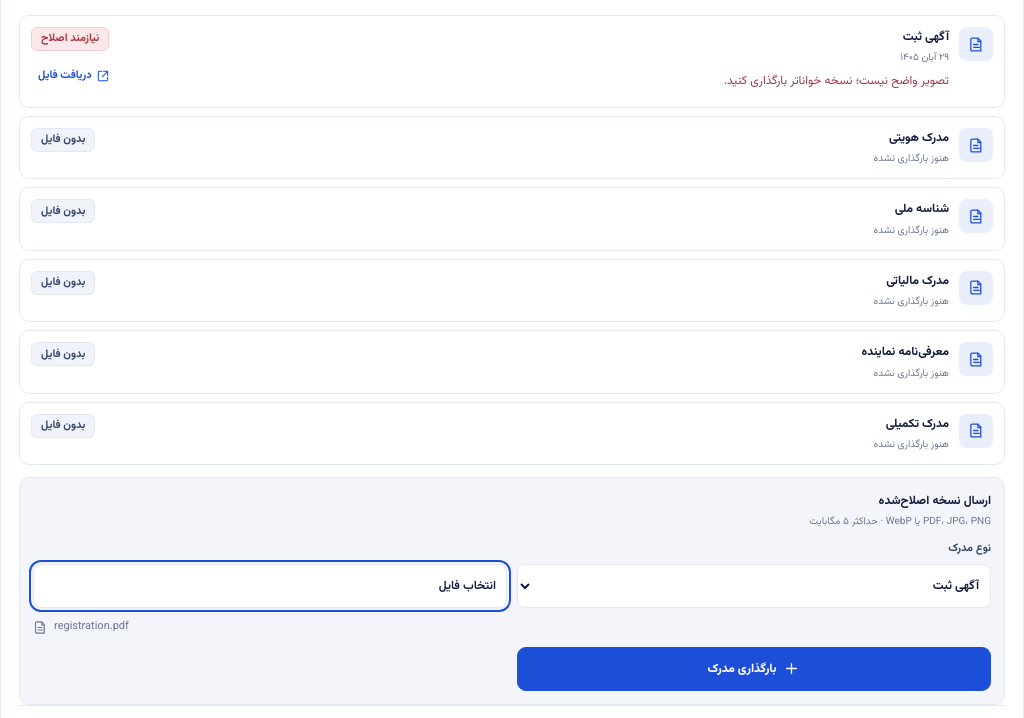
Test: BusinessVerificationPanel › shows review feedback and uploads a private document without changing the existing flow
Earlier steps of the test are not shown.
(page scrolled)
Expected: the text "تصویر واضح نیست؛ نسخه خواناتر بارگذاری کنید." is shown, [724, 72, 949, 90]
Expected: the text "ارسال نسخه اصلاح‌شده" is shown, [879, 492, 991, 510]
Click the button "بارگذاری مدرک": (754, 669) [517, 647, 991, 691]
(page scrolled)
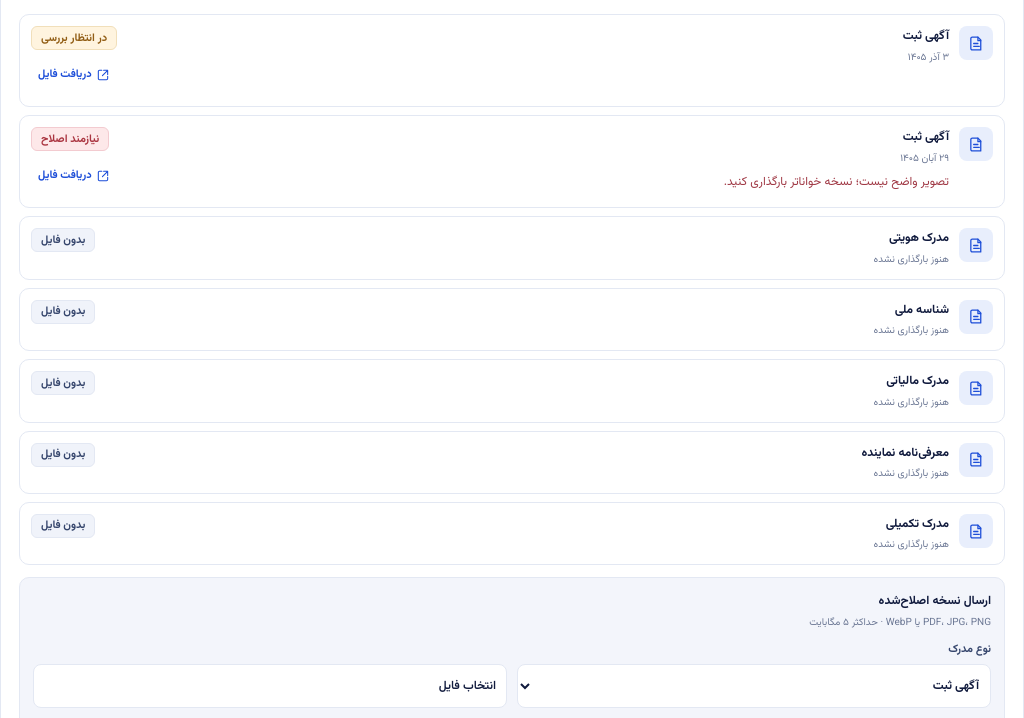
Result: the text "در انتظار بررسی" is shown at [31, 26, 117, 50]
